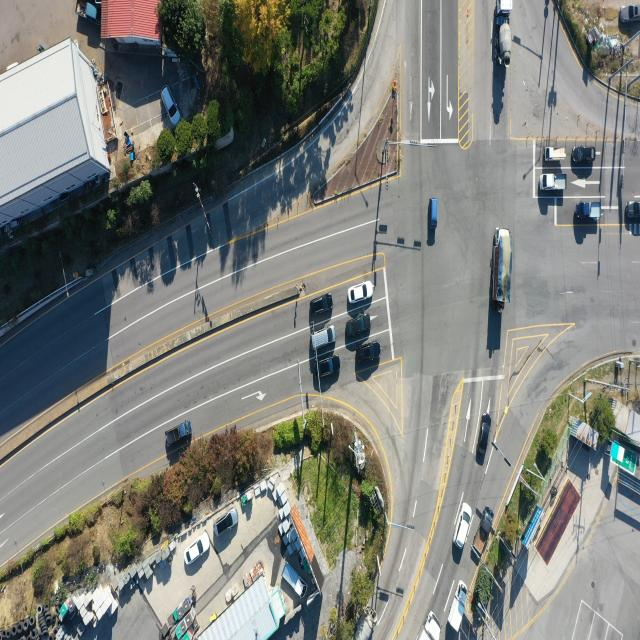car: (183, 533, 209, 569), (477, 414, 493, 467), (454, 503, 472, 550), (160, 83, 178, 125), (313, 354, 341, 379), (215, 509, 238, 538), (345, 318, 371, 342), (310, 326, 336, 350), (348, 281, 373, 305), (355, 341, 381, 364), (310, 293, 334, 316), (571, 146, 595, 164), (620, 4, 640, 22), (625, 202, 640, 220)
medium_truck: (494, 225, 513, 304), (496, 0, 510, 67), (415, 610, 443, 640)
small_truck: (445, 578, 467, 630), (281, 560, 307, 599), (165, 418, 191, 448), (73, 0, 99, 21), (574, 202, 601, 222), (429, 193, 440, 240), (540, 173, 567, 192), (544, 146, 566, 161)
